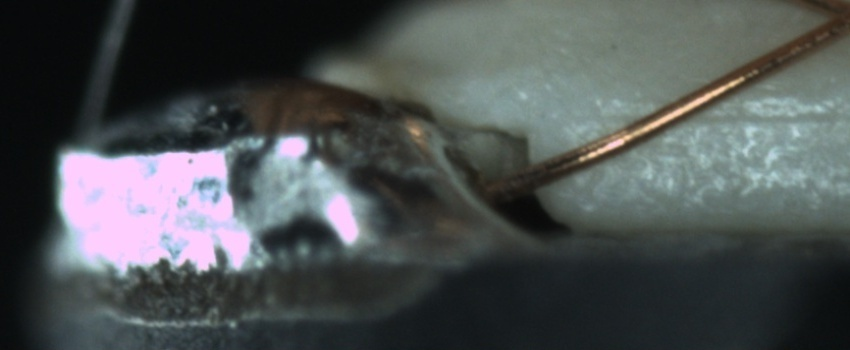CL: (808, 1, 849, 42)
DL: (605, 83, 849, 148)
